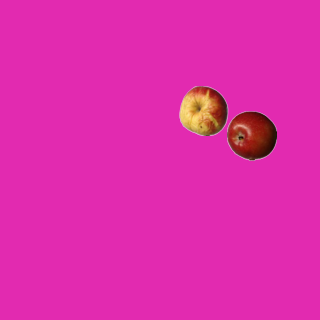Apple Braeburn: (226, 110, 276, 160)
Apple Red Yellow 1: (178, 85, 228, 135)
